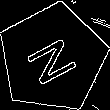N_NE: (21, 29, 84, 88)
